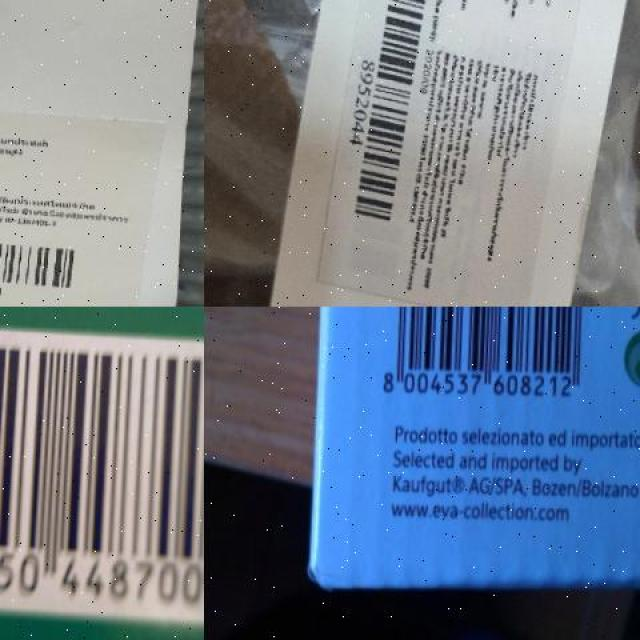Barcode: (0, 307, 204, 624), (370, 307, 606, 408), (344, 0, 436, 233), (0, 218, 93, 301)
